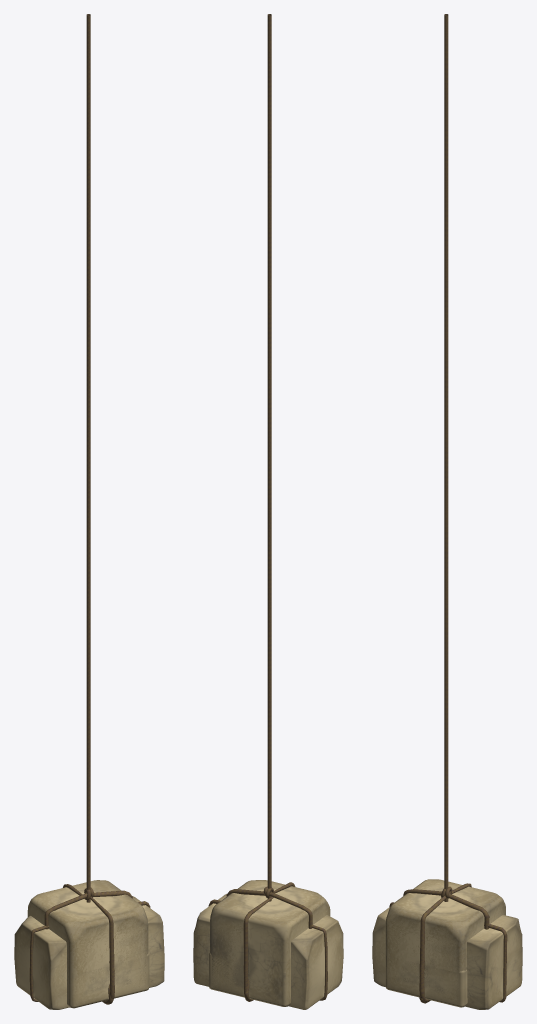
Rendered from bube_Assets.fbx.
3 views of the same model, side by side, from view 1: azimuth 30°, elevation 25°; view 2: azimuth 150°, elevation 25°; view 3: azimuth 330°, elevation 25° (orthographic).
Visible parts, largest first — view 1: Cube1, Cube2, Rope, Cube4, Rope_01; view 2: Cube1, Cube2, Rope, Cube4, Rope_01; view 3: Cube1, Cube2, Rope, Cube4, Rope_01, Rope02.
Boxes of the visible parts, x1=… form: Cube1: x1=27, y1=880, x2=148, y2=1007; Cube2: x1=14, y1=896, x2=164, y2=1009; Rope: x1=86, y1=14, x2=90, y2=902; Cube4: x1=72, y1=953, x2=149, y2=1008; Rope_01: x1=44, y1=884, x2=132, y2=1000; Cube1: x1=210, y1=880, x2=330, y2=1006; Cube2: x1=193, y1=894, x2=343, y2=1009; Rope: x1=267, y1=14, x2=271, y2=901; Cube4: x1=209, y1=952, x2=285, y2=1006; Rope_01: x1=226, y1=882, x2=312, y2=966; Cube1: x1=385, y1=879, x2=505, y2=1004; Cube2: x1=372, y1=907, x2=522, y2=1009; Rope: x1=444, y1=14, x2=448, y2=901; Cube4: x1=385, y1=954, x2=467, y2=1007; Rope_01: x1=403, y1=883, x2=489, y2=1000; Rope02: x1=389, y1=902, x2=507, y2=1002.
Size of the model in its own units: 563 by 4408 by 412.
Materials: 1 (1 with a texture image).
